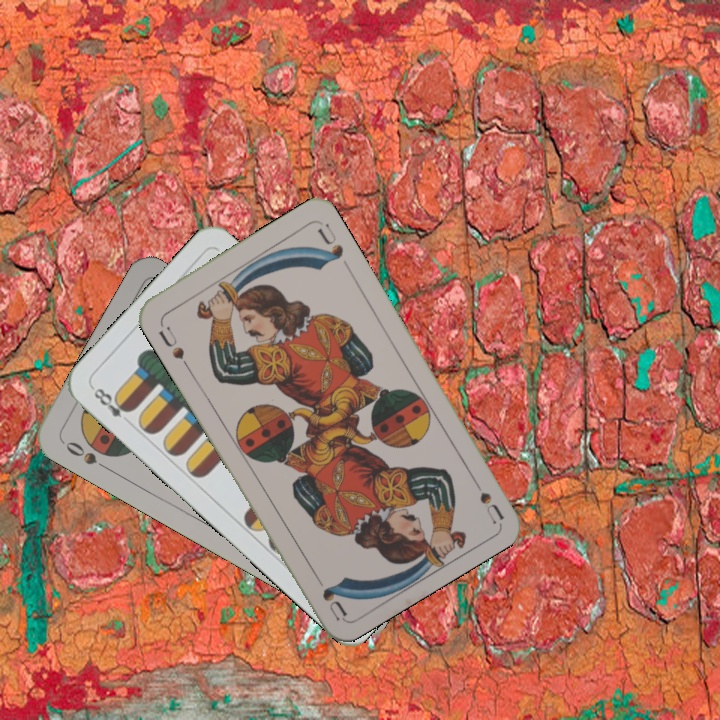E8: (88, 383, 135, 421)
SO: (58, 436, 112, 473)
SU: (465, 469, 506, 525), (154, 322, 192, 371)
